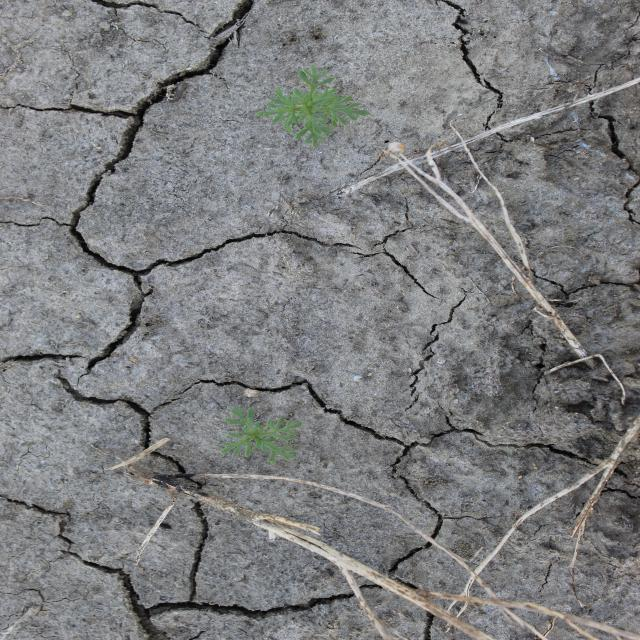Ragweed: (253, 63, 372, 150), (218, 405, 306, 466)
